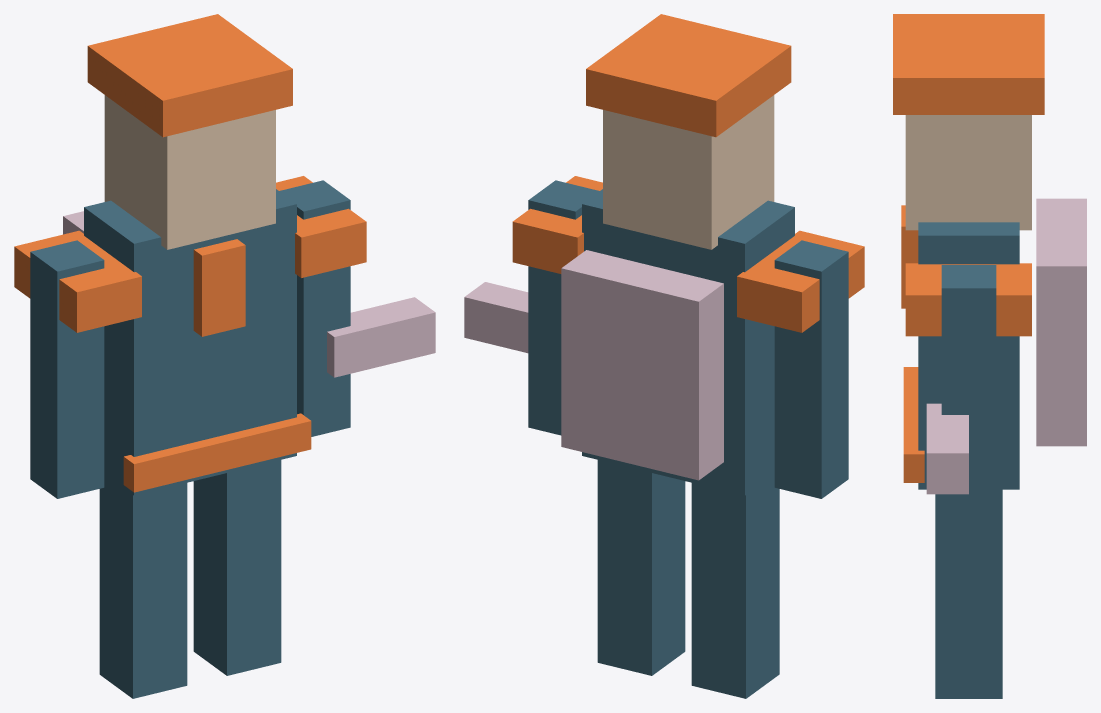
The model's file is 16_ossa_riftwalker_fixer_under_arrival.glb.
3 renders of one model, left to right at view 1: azimuth 30°, elevation 25°; view 2: azimuth 150°, elevation 25°; view 3: azimuth 270°, elevation 25°, orthographic.
Parts seen in each view (by area): view 1: Ossa Riftwalker, Fixer under Arrival; view 2: Ossa Riftwalker, Fixer under Arrival; view 3: Ossa Riftwalker, Fixer under Arrival.
Part boxes in pixels (<box>): Ossa Riftwalker, Fixer under Arrival: <box>14,14,435,698</box>; Ossa Riftwalker, Fixer under Arrival: <box>464,14,864,698</box>; Ossa Riftwalker, Fixer under Arrival: <box>893,14,1086,698</box>.
Bounding box in the file's own units: 1.04 × 1.64 × 0.4663.
